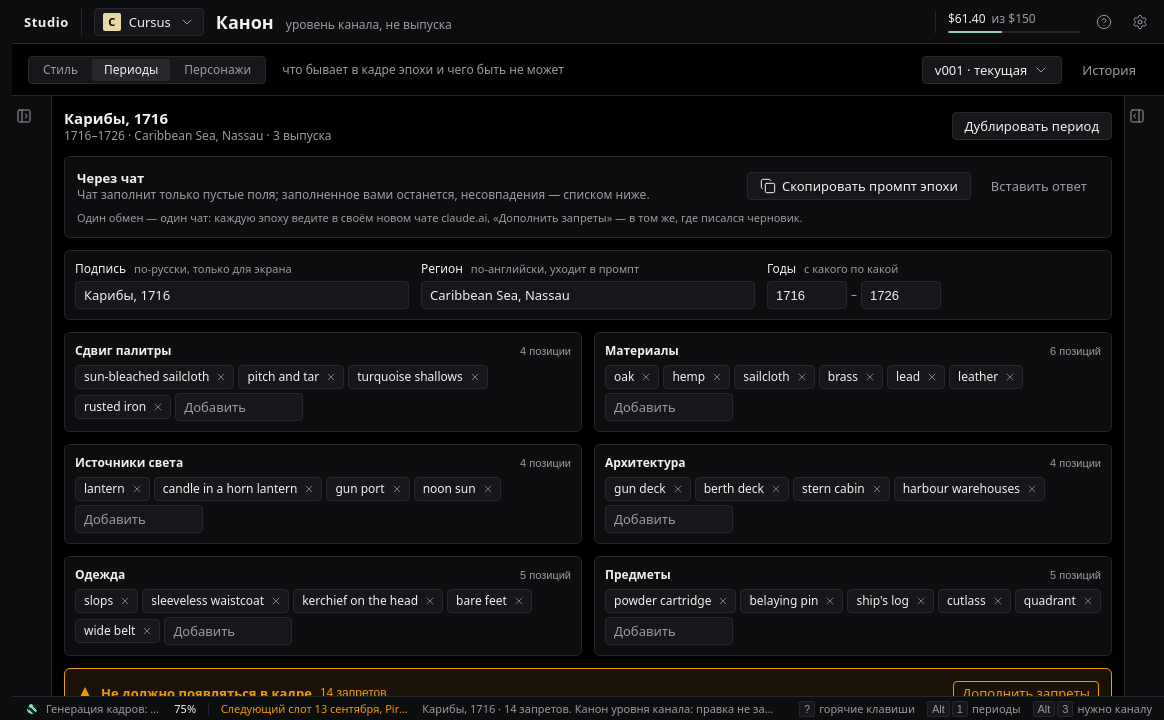
слой «Периоды» › чип добавляется одной записью черновика; повтор без учёта регистра не добавляется
Type "Copper" into the field named "Эпоха: Материалы: добавить". click: point(669, 407)
box: [605,393,733,421]
Then press Enter
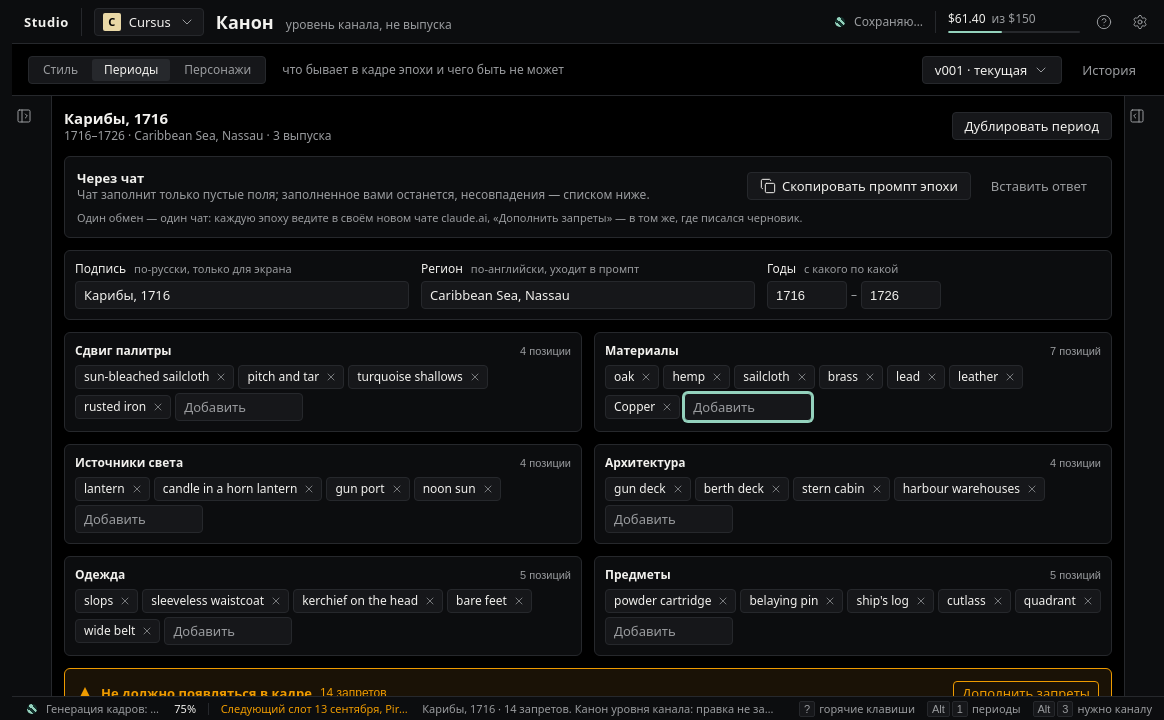
Type "OAK" into the field named "Эпоха: Материалы: добавить". click: point(748, 407)
box: [684,393,812,421]
Then press Enter
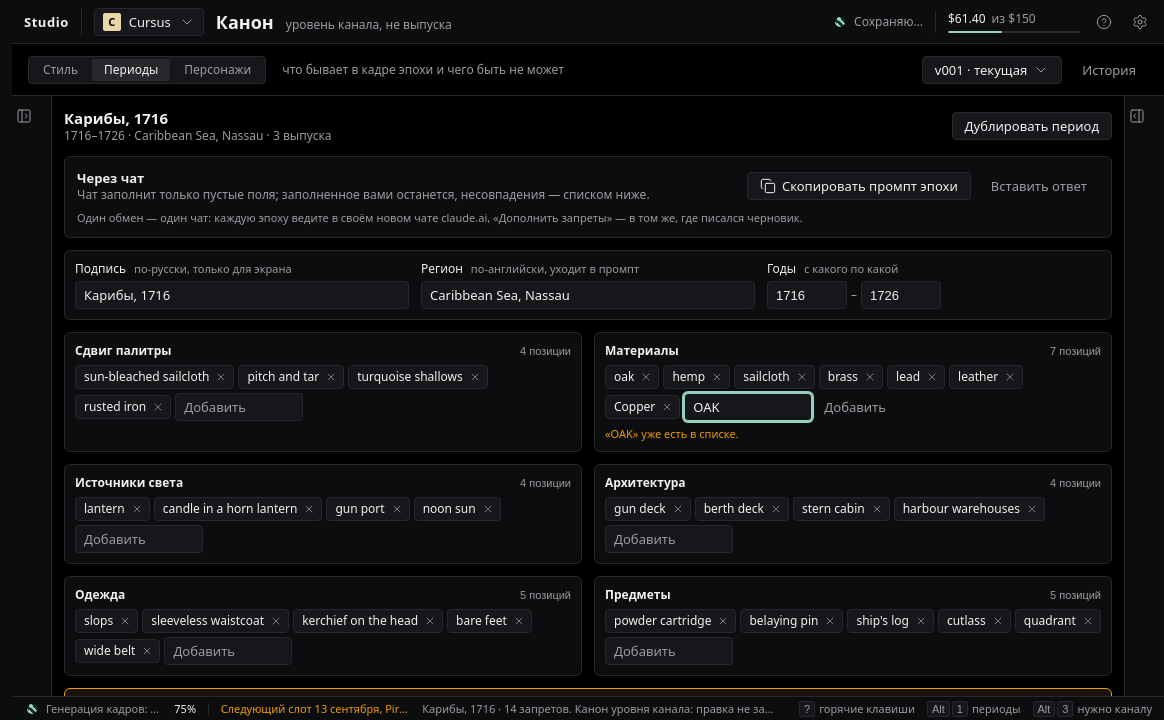
Expected: the text "«OAK» уже есть в списке." is shown, [605,426,739,441]
